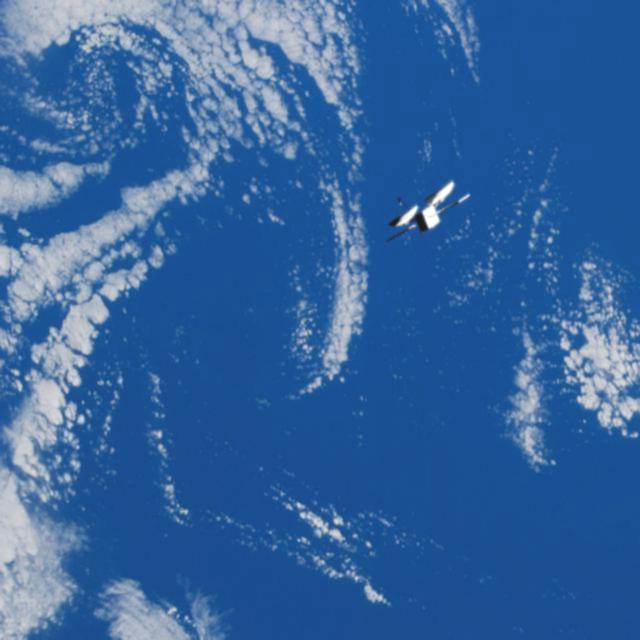satellite: (374, 171, 482, 256)
